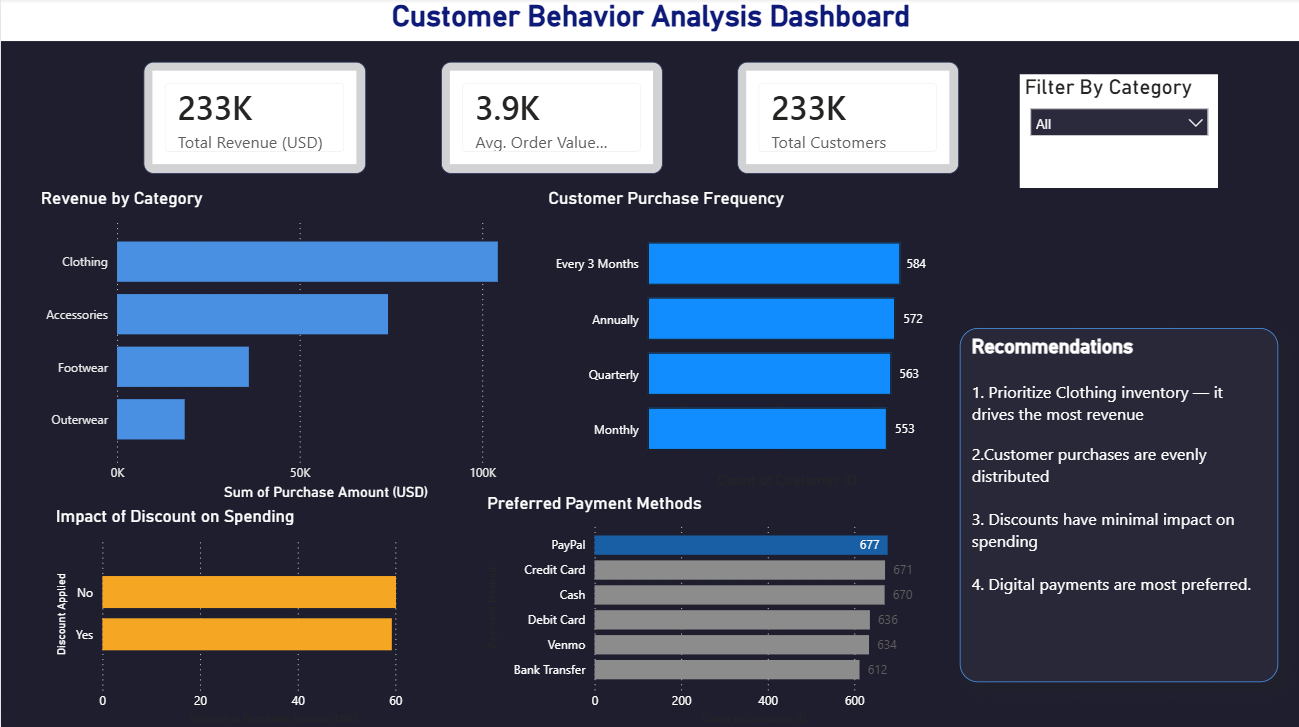

Layout of this report page (visuals, bound fields, positions):
{"tool":"powerbi","page":{"name":"Page 1","canvas":[1280,720],"ordinal":0},"visuals":[{"type":"textbox","title":"Customer Behavior Analysis Dashboard","box":[0,0,1280,42.2],"z":0},{"type":"clusteredBarChart","title":"Revenue by Category","fields":{"Category":["customer_shopping_cleaned.Category"],"Y":["Sum(customer_shopping_cleaned.Purchase Amount (USD))"]},"box":[35,187,510,313],"z":1000},{"type":"clusteredBarChart","title":"Customer Purchase Frequency","fields":{"Category":["customer_shopping_cleaned.Frequency of Purchases"],"Y":["CountNonNull(customer_shopping_cleaned.Customer ID)"]},"box":[534.5,187,382,300.4],"z":2000},{"type":"clusteredBarChart","title":"Impact of Discount on Spending","fields":{"Category":["customer_shopping_cleaned.Discount Applied"],"Y":["Avg(customer_shopping_cleaned.Purchase Amount (USD))"]},"box":[49.5,499.5,399.3,220.8],"z":3000},{"type":"clusteredBarChart","title":"Preferred Payment Methods","fields":{"Category":["customer_shopping_cleaned.Payment Method"],"Y":["CountNonNull(customer_shopping_cleaned.Customer ID)"]},"box":[474.1,487.2,440.4,232.8],"z":4000},{"type":"textbox","title":"Recommendations","box":[943.4,324.5,313.7,348.7],"z":5000},{"type":"slicer","title":"Filter By Category","fields":{"Values":["customer_shopping_cleaned.Category"]},"box":[1002.6,74.8,195.4,112.2],"z":6000},{"type":"cardVisual","fields":{"Data":["Sum(customer_shopping_cleaned.Purchase Amount (USD))"]},"box":[139.9,62.7,219.6,110],"z":7000},{"type":"cardVisual","fields":{"Data":["CountNonNull(customer_shopping_cleaned.Customer ID)"]},"box":[433.1,62.7,218.4,110],"z":8000},{"type":"cardVisual","fields":{"Data":["Sum(customer_shopping_cleaned.Purchase Amount (USD))"]},"box":[725.1,62.7,218.4,110],"z":9000}]}

Visuals, with their boxes in screenshot pixels (x1, y1, x2, y2), scaled from the page's 1280x720 canvas onto the 1299x727 screenshot:
"Customer Behavior Analysis Dashboard" textbox: (left=0, top=0, right=1298, bottom=43)
"Revenue by Category" clusteredBarChart: (left=36, top=189, right=553, bottom=505)
"Customer Purchase Frequency" clusteredBarChart: (left=542, top=189, right=930, bottom=492)
"Impact of Discount on Spending" clusteredBarChart: (left=50, top=504, right=455, bottom=726)
"Preferred Payment Methods" clusteredBarChart: (left=481, top=492, right=928, bottom=726)
"Recommendations" textbox: (left=957, top=328, right=1276, bottom=680)
"Filter By Category" slicer: (left=1017, top=76, right=1216, bottom=189)
cardVisual - Sum(customer_shopping_cleaned.Purchase Amount (USD)): (left=142, top=63, right=365, bottom=174)
cardVisual - CountNonNull(customer_shopping_cleaned.Customer ID): (left=440, top=63, right=661, bottom=174)
cardVisual - Sum(customer_shopping_cleaned.Purchase Amount (USD)): (left=736, top=63, right=958, bottom=174)
